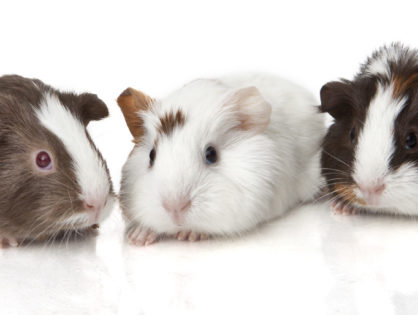pet: (100, 83, 323, 239)
